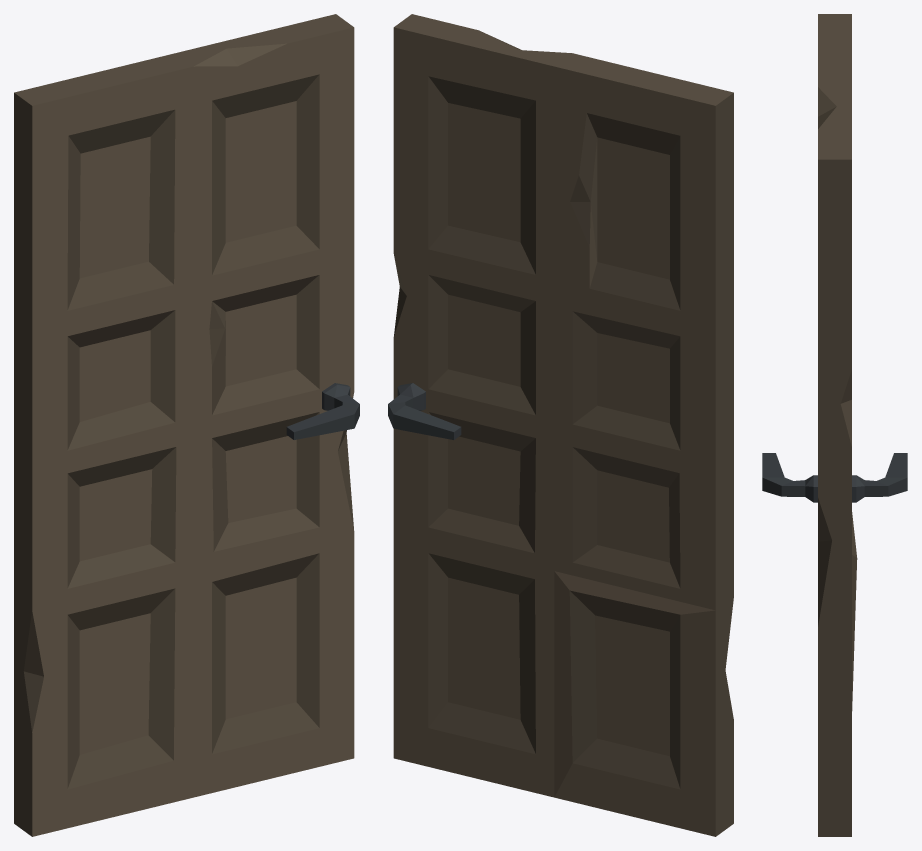
The model's file is SM_Bld_Village_Door_Hinge_01.glb.
3 views of the same model, side by side, from view 1: azimuth 30°, elevation 25°; view 2: azimuth 150°, elevation 25°; view 3: azimuth 270°, elevation 25° (orthographic). The views are drawn at different scales.
Parts seen in each view (by area): view 1: SM_Bld_Village_Door_Hinge_01; view 2: SM_Bld_Village_Door_Hinge_01; view 3: SM_Bld_Village_Door_Hinge_01.
Part boxes in pixels (left/top/right/bottom): SM_Bld_Village_Door_Hinge_01: left=14, top=14, right=359, bottom=836; SM_Bld_Village_Door_Hinge_01: left=388, top=14, right=733, bottom=836; SM_Bld_Village_Door_Hinge_01: left=762, top=14, right=907, bottom=836.
Bounding box in the file's own units: 1.03 × 2.22 × 0.4324.
Materials: 1 (1 with a texture image).
